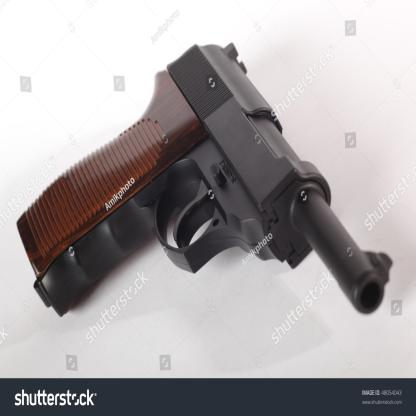handgun: (17, 40, 394, 318)
